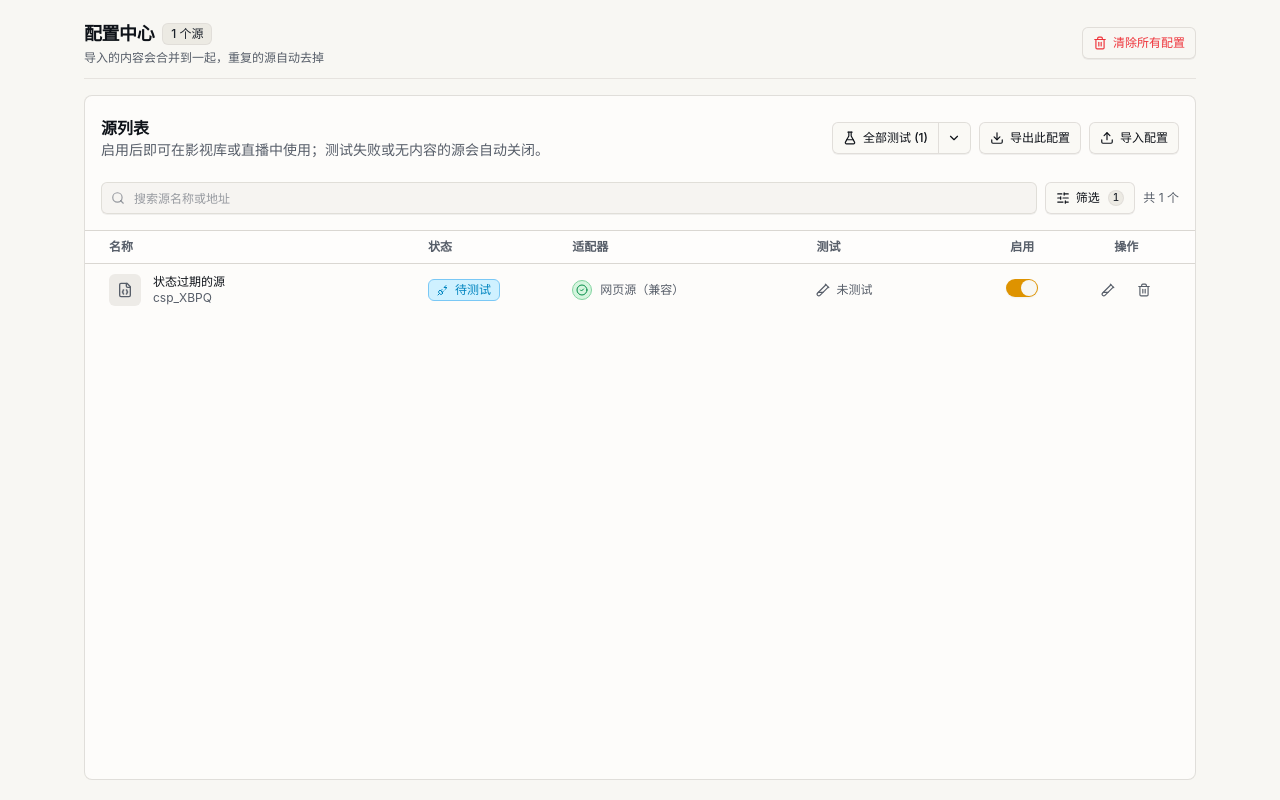
Test case: config center › does not print a stale stored note under the source name
Click the row "状态过期的源 csp_XBPQ 待测试 网页源（兼容） 未测试" at (640, 289), box top-left (85, 263), bottom-right (1195, 316)
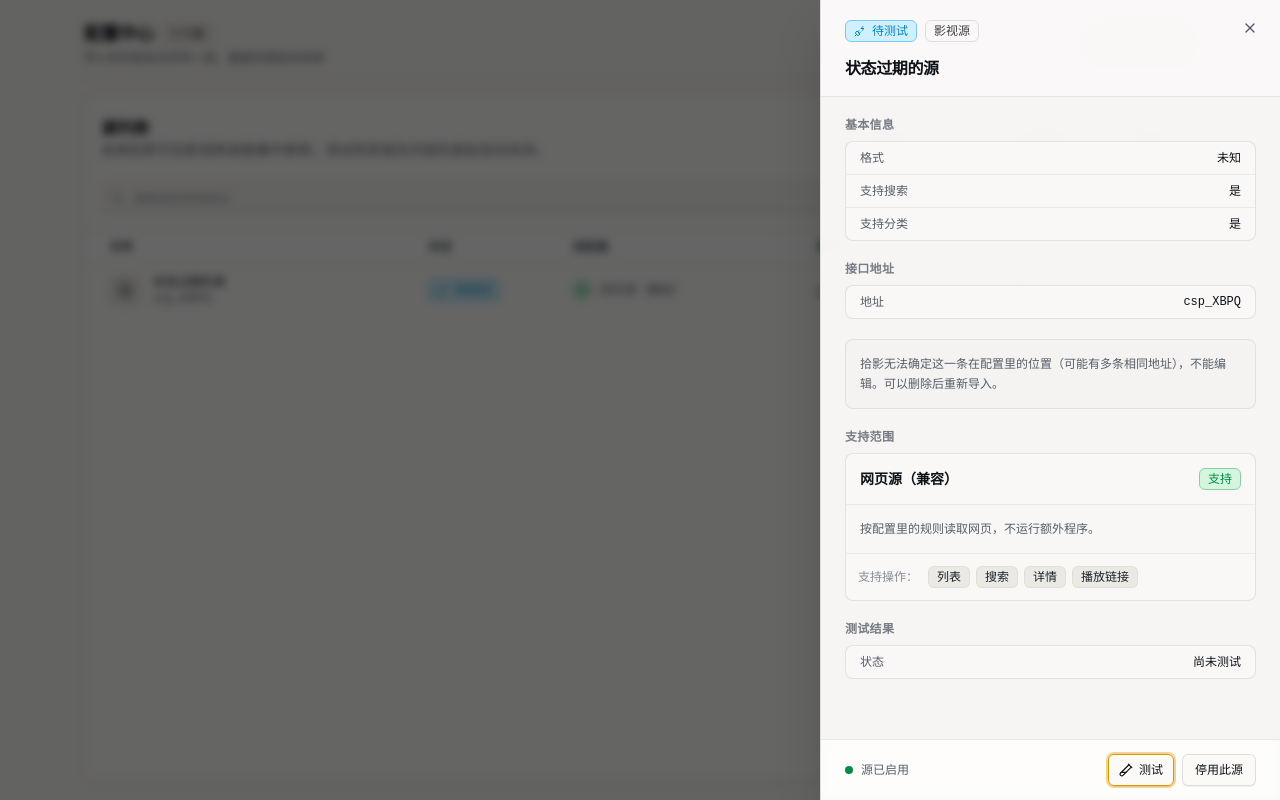
Expected: the text "按配置里的规则读取网页，不运行额外程序。" is shown once, top-left (846, 505), bottom-right (1255, 554)
